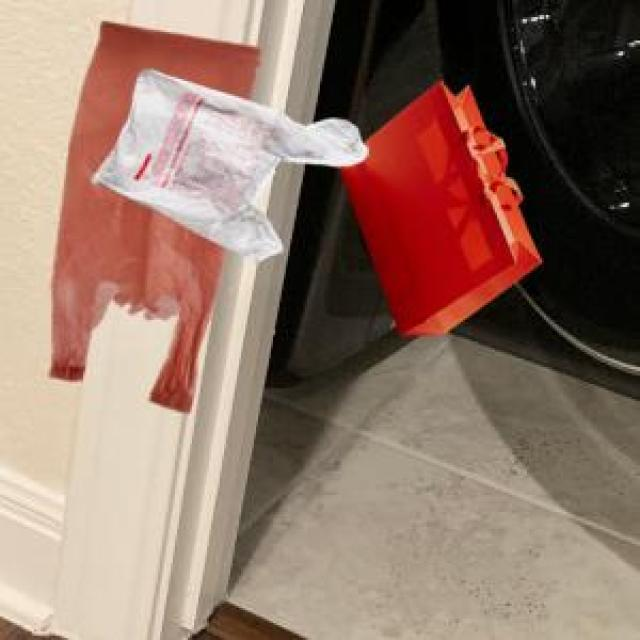paper: (335, 77, 538, 331)
